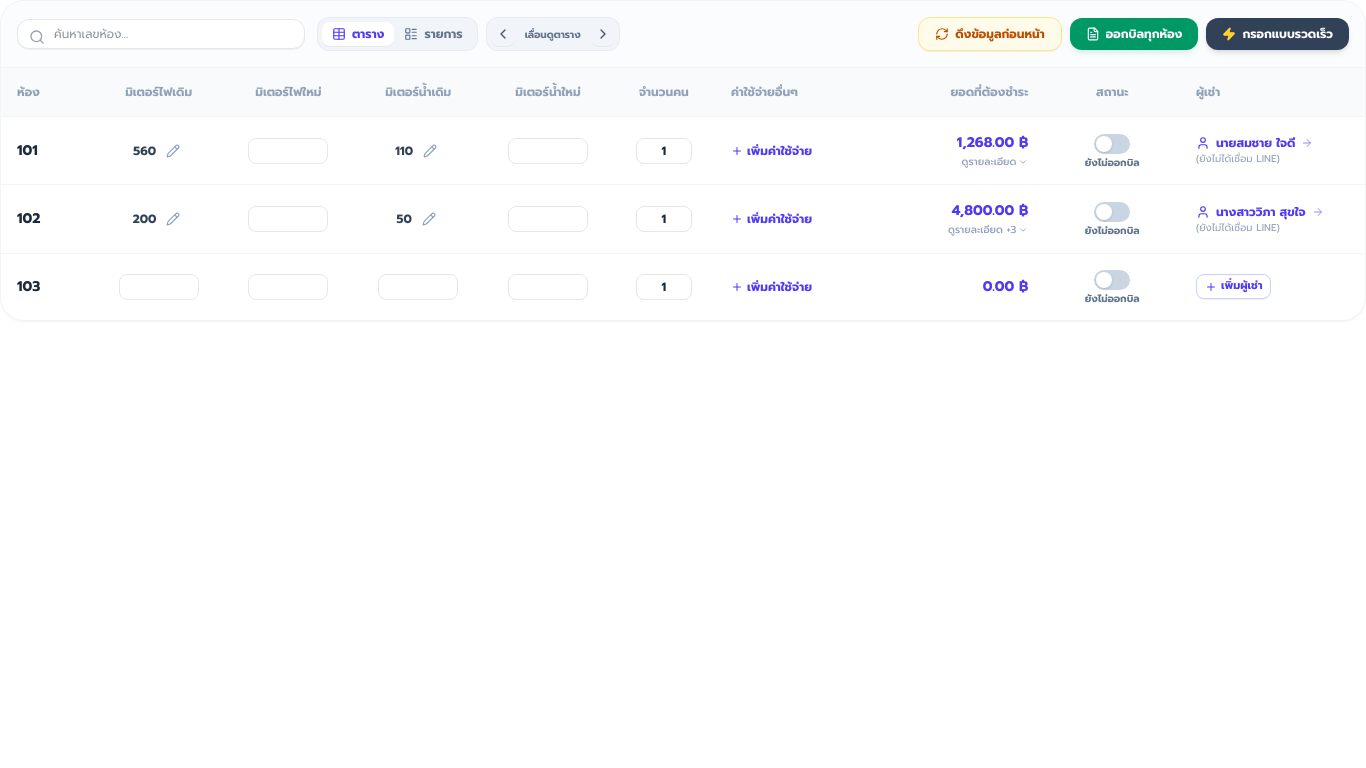
Test: HORPLUS LOCAL-07 — Owner Meter List Mode UX Suite (L1 - L28) › L2. Select List -> mode renders cards
Check: the table is shown, box [1,68,1365,320]
Click the button with test id "view-mode-list-button". click: click(434, 34)
box: [394,22,473,46]
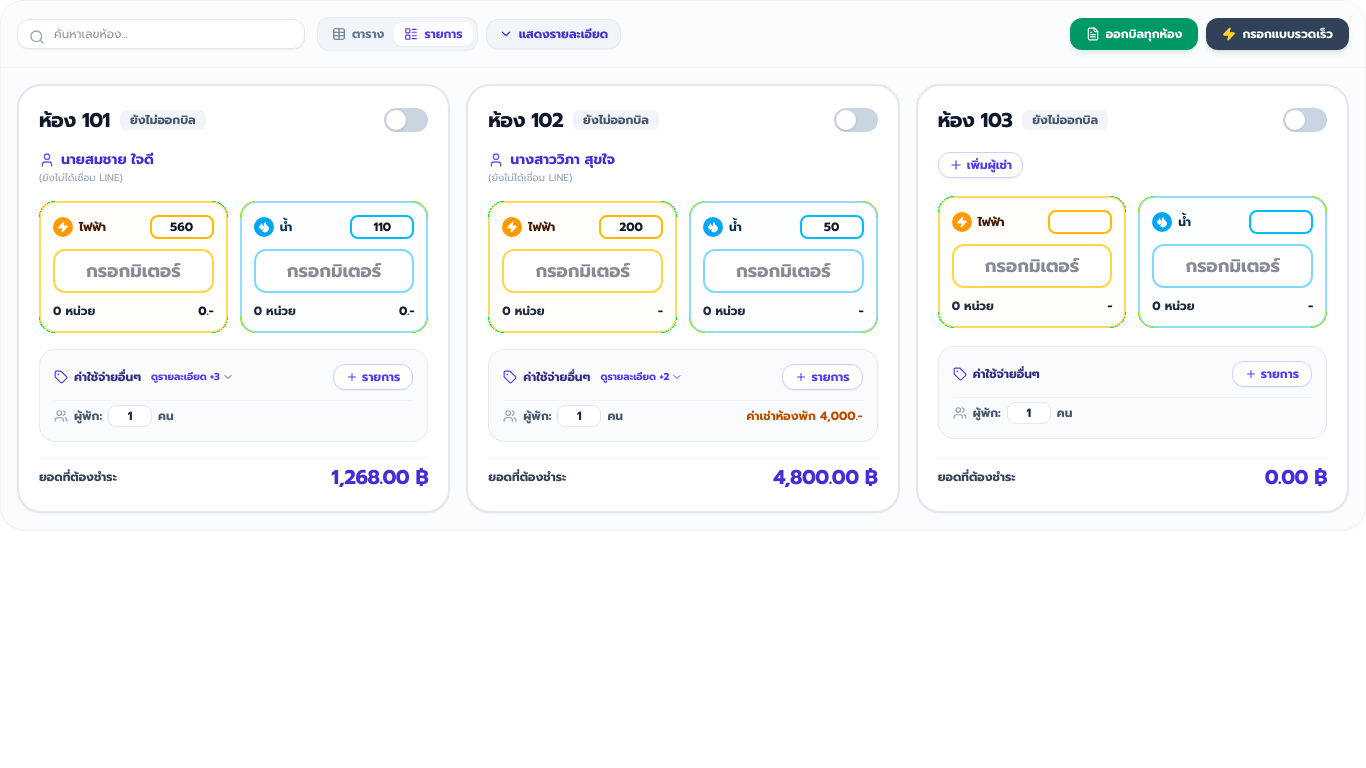
Check: the element with test id "meter-list-container" is shown, box [17,84,1349,512]
Check: the element with test id "meter-list-card-room-101" is shown, box [17,84,450,512]
Check: the element with test id "meter-list-card-room-102" is shown, box [466,84,900,512]
